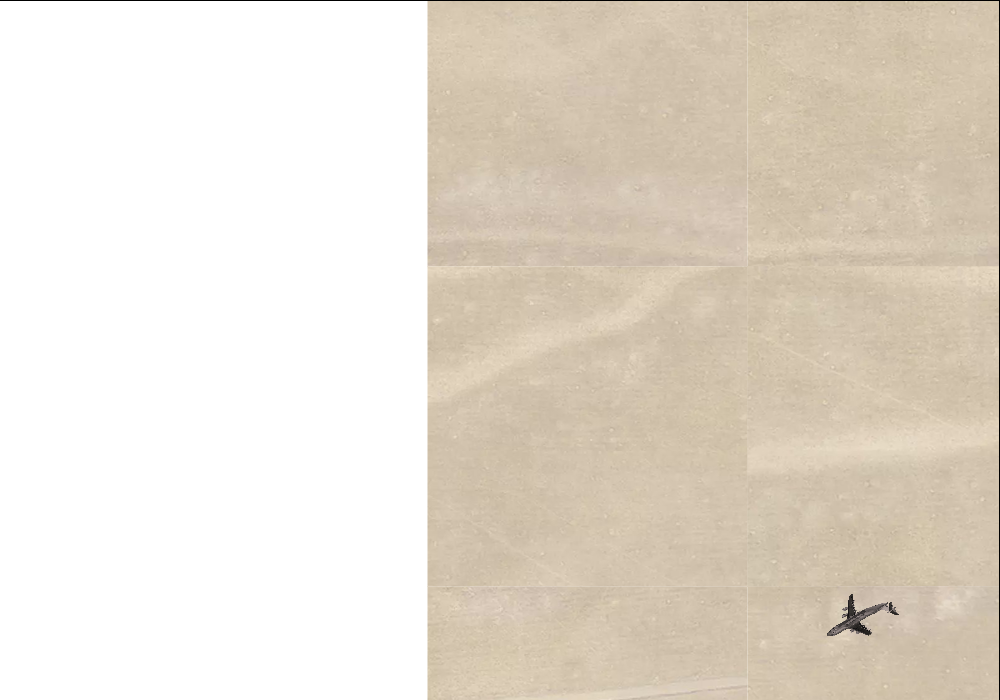plane: (814, 575, 909, 666)
